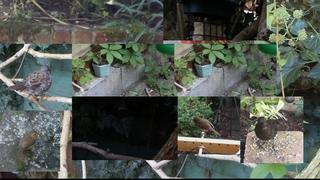blackbird: (254, 116, 283, 153)
dunnock: (5, 64, 52, 101)
robin: (17, 130, 40, 156), (192, 116, 220, 136)
